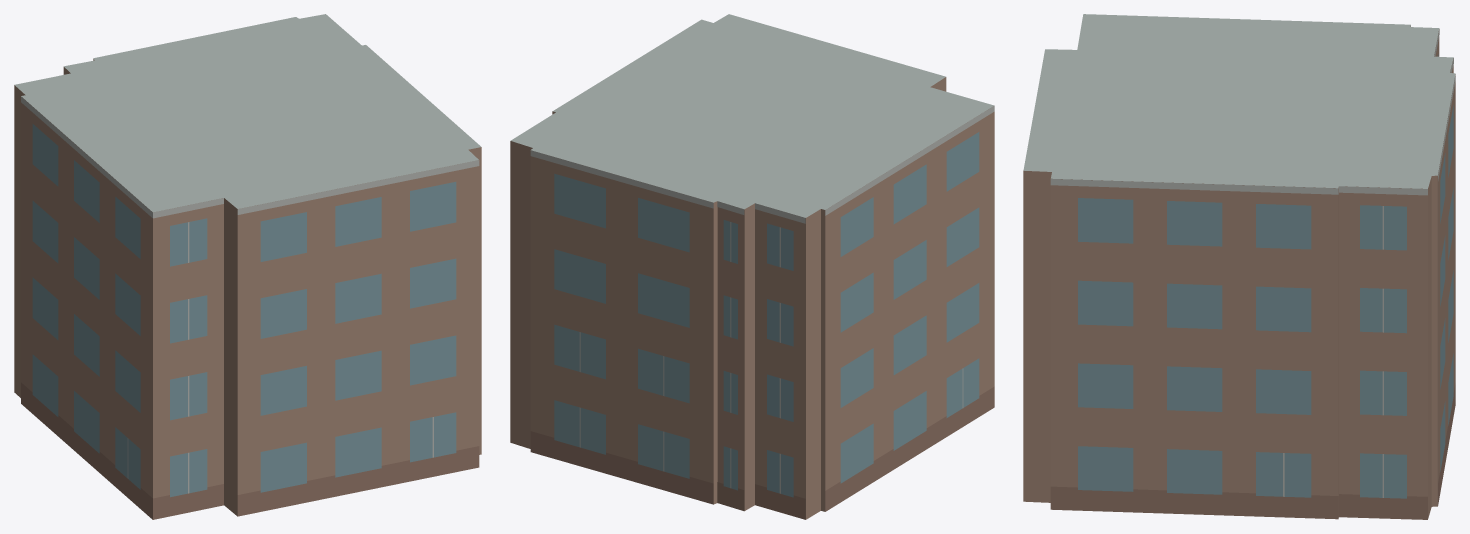
File: survey-upis-32856483.glb
3 views of the same model, side by side, from view 1: azimuth 30°, elevation 25°; view 2: azimuth 150°, elevation 25°; view 3: azimuth 270°, elevation 25° (orthographic). The views are drawn at different scales.
Parts seen in each view (by area): view 1: survey-upis-32856483.tmp; view 2: survey-upis-32856483.tmp; view 3: survey-upis-32856483.tmp.
Boxes of the visible parts, x1,y1,x2,y2 form: survey-upis-32856483.tmp: (14,14,481,519); survey-upis-32856483.tmp: (510,14,994,519); survey-upis-32856483.tmp: (1023,14,1455,519).
Bounding box in the file's own units: 14.07 × 12.4 × 14.69.
